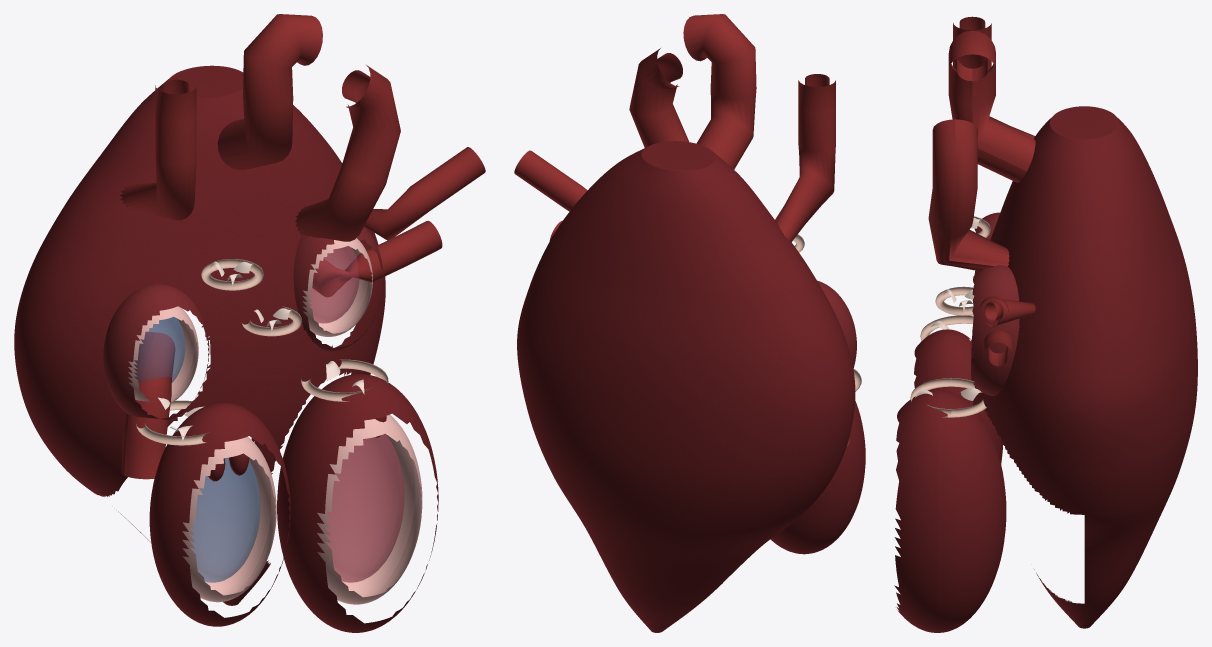
The model's file is heart_segmented_tricuspid_leaky.glb.
The picture shows the model from 3 angles, left to right: view 1: azimuth 30°, elevation 25°; view 2: azimuth 150°, elevation 25°; view 3: azimuth 270°, elevation 25°; orthographic projection. The views are drawn at different scales.
Visible parts, largest first — view 1: HeartBody, WallLV, WallRV, Aorta, PulmonaryTrunk, BloodLV, WallRA, SVC, BloodRV, WallLA, IVC, PulmonaryVeinL (+7 smaller); view 2: HeartBody, Aorta, SVC, WallRV, PulmonaryTrunk, PulmonaryVeinL, WallRA; view 3: HeartBody, WallLV, PulmonaryTrunk, Aorta, WallLA, WallRV, PulmonaryVeinL, AnnulusMitral, SVC, PulmonaryVeinR, AnnulusPulmonary, AnnulusTricuspid.
Part boxes in pixels (x1=…): HeartBody: x1=14, y1=65, x2=385, y2=605; WallLV: x1=277, y1=374, x2=438, y2=632; WallRV: x1=149, y1=402, x2=290, y2=626; Aorta: x1=217, y1=14, x2=322, y2=169; PulmonaryTrunk: x1=295, y1=65, x2=400, y2=241; BloodLV: x1=325, y1=434, x2=404, y2=582; WallRA: x1=103, y1=284, x2=209, y2=420; SVC: x1=119, y1=79, x2=196, y2=220; BloodRV: x1=190, y1=457, x2=260, y2=582; WallLA: x1=293, y1=226, x2=383, y2=351; IVC: x1=121, y1=331, x2=175, y2=479; PulmonaryVeinL: x1=364, y1=147, x2=485, y2=240; HeartBody: x1=517, y1=141, x2=855, y2=632; Aorta: x1=683, y1=14, x2=756, y2=169; SVC: x1=775, y1=74, x2=835, y2=242; WallRV: x1=770, y1=401, x2=865, y2=554; PulmonaryTrunk: x1=629, y1=48, x2=689, y2=147; PulmonaryVeinL: x1=514, y1=150, x2=587, y2=211; WallRA: x1=817, y1=280, x2=856, y2=368; HeartBody: x1=971, y1=106, x2=1197, y2=628; WallLV: x1=894, y1=389, x2=1006, y2=632; PulmonaryTrunk: x1=928, y1=119, x2=1009, y2=271; Aorta: x1=948, y1=30, x2=1035, y2=182; WallLA: x1=971, y1=265, x2=1019, y2=395; WallRV: x1=914, y1=329, x2=1002, y2=464; PulmonaryVeinL: x1=979, y1=296, x2=1035, y2=326; AnnulusMitral: x1=910, y1=378, x2=986, y2=417; SVC: x1=953, y1=16, x2=1035, y2=138; PulmonaryVeinR: x1=983, y1=330, x2=1012, y2=366; AnnulusPulmonary: x1=935, y1=286, x2=973, y2=315; AnnulusTricuspid: x1=920, y1=315, x2=973, y2=340.
Bounding box in the file's own units: 0.1023 × 0.1514 × 0.0705.
Materials: 9 (3 with a texture image).
